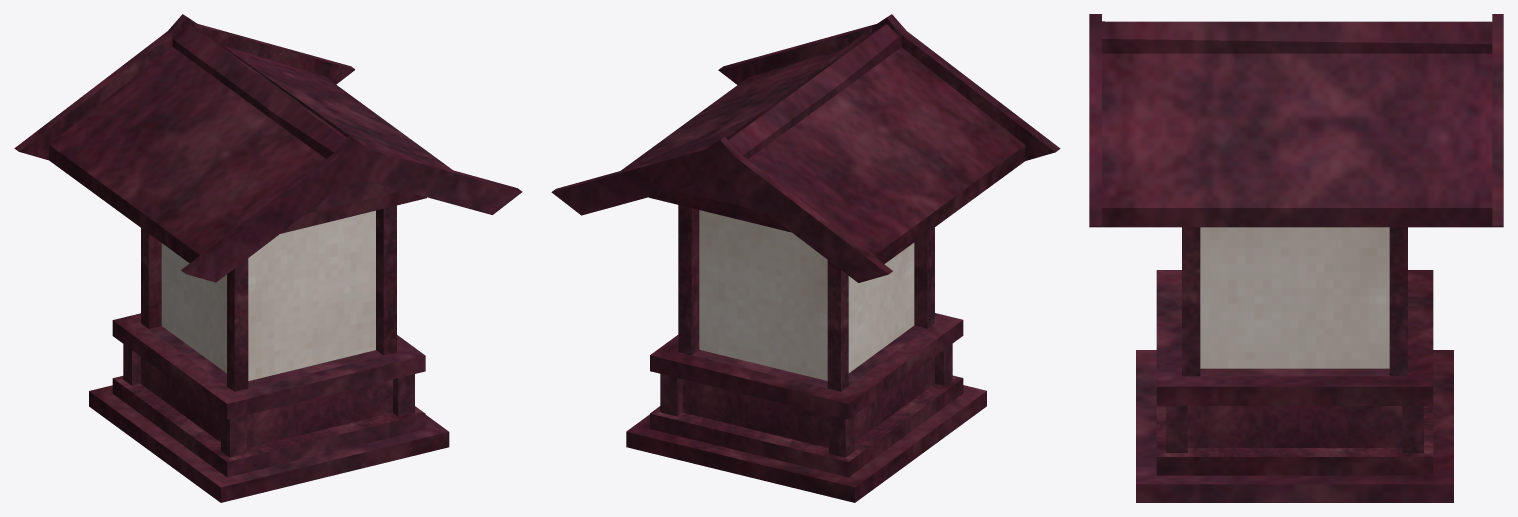
Rendered from NNJ0510054.fbx.
3 renders of one model, left to right at view 1: azimuth 30°, elevation 25°; view 2: azimuth 150°, elevation 25°; view 3: azimuth 270°, elevation 25°, orthographic. The views are drawn at different scales.
Parts seen in each view (by area): view 1: smNNJ0510054; view 2: smNNJ0510054; view 3: smNNJ0510054.
Boxes of the visible parts, <box> form: smNNJ0510054: <box>14,14,522,502</box>; smNNJ0510054: <box>551,14,1060,502</box>; smNNJ0510054: <box>1089,14,1503,502</box>.
Bounding box in the file's own units: 94.3 × 93.54 × 83.24.
1 material, 1 textured.
